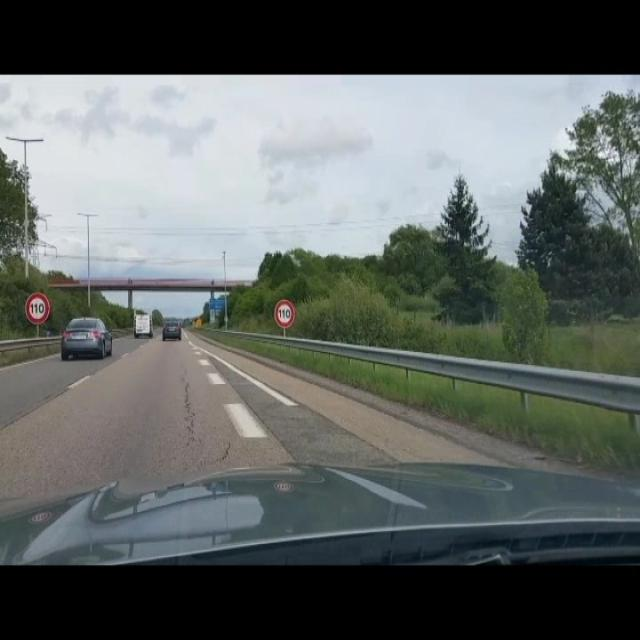speed_110: (25, 291, 51, 325), (274, 299, 295, 329)
